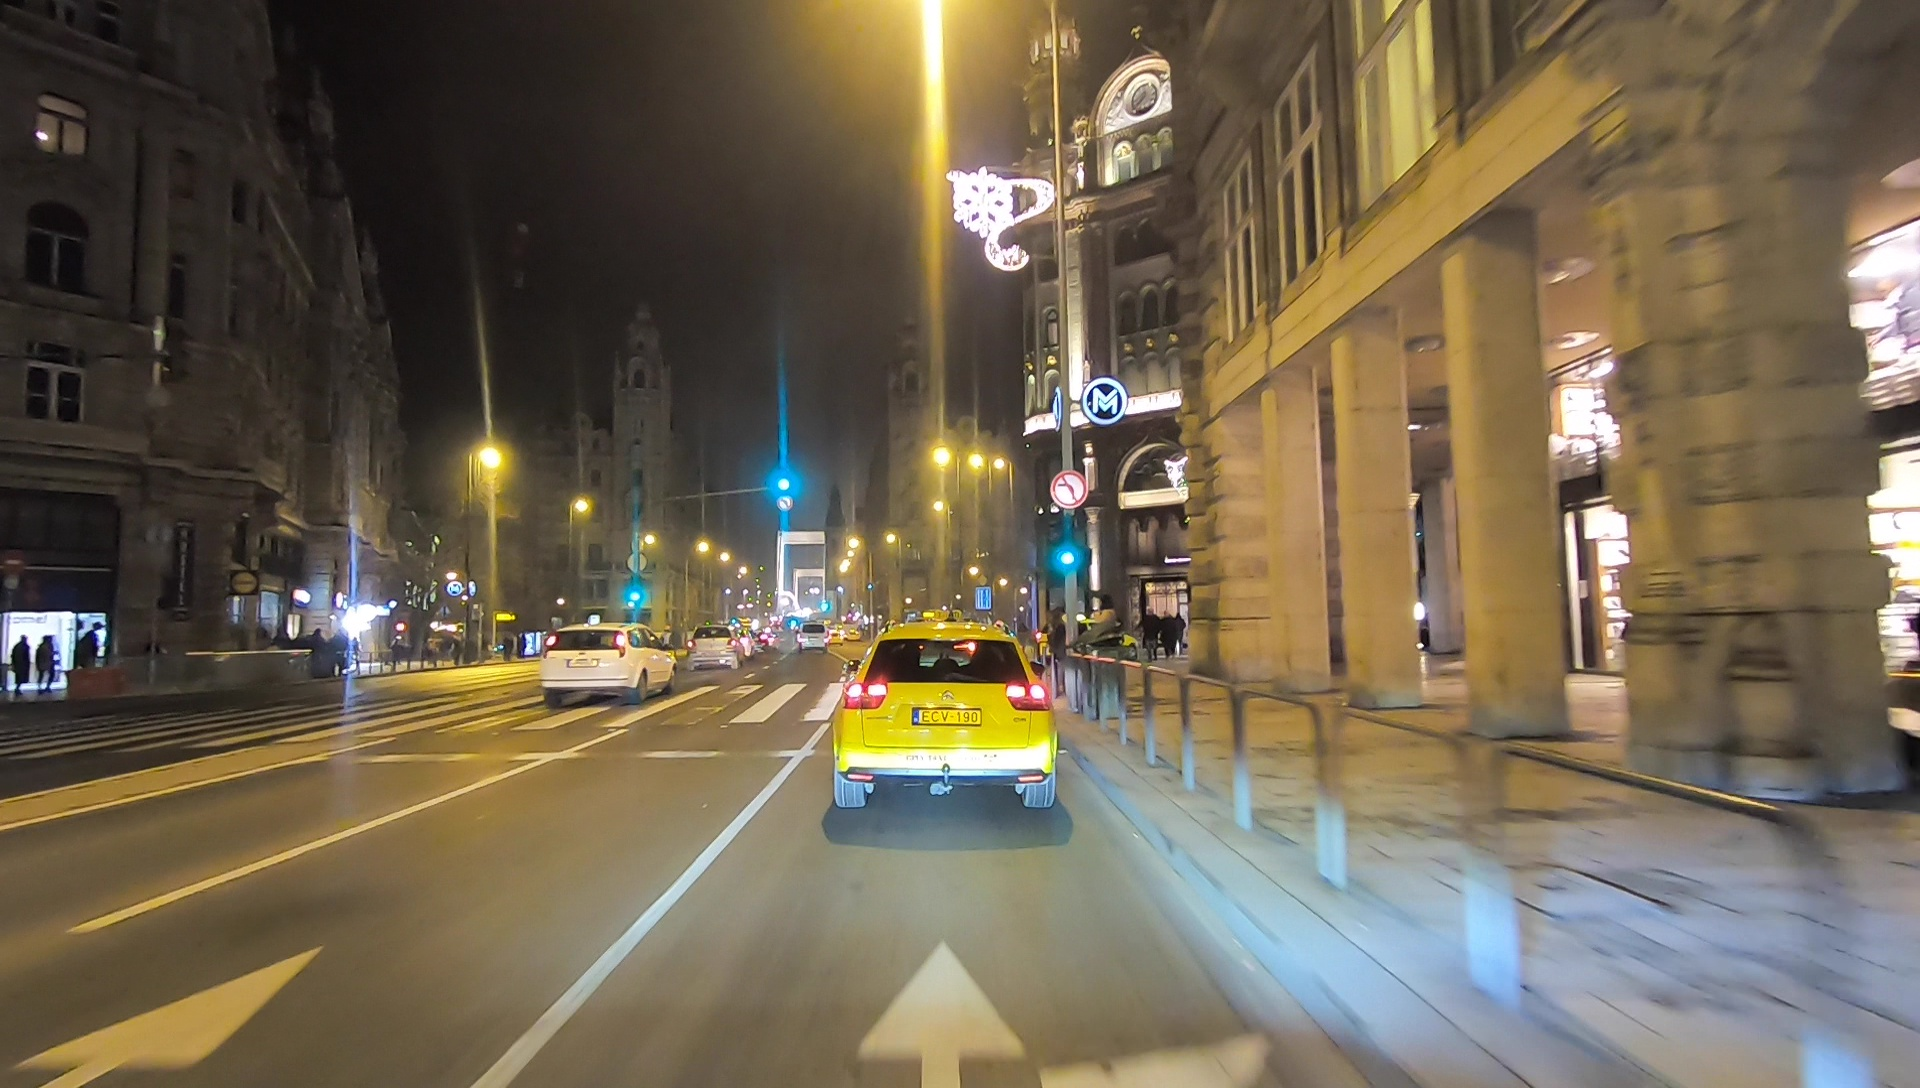person: (8, 635, 31, 695), (34, 635, 56, 693), (1141, 607, 1158, 666), (1160, 609, 1172, 663), (1174, 612, 1187, 660)
